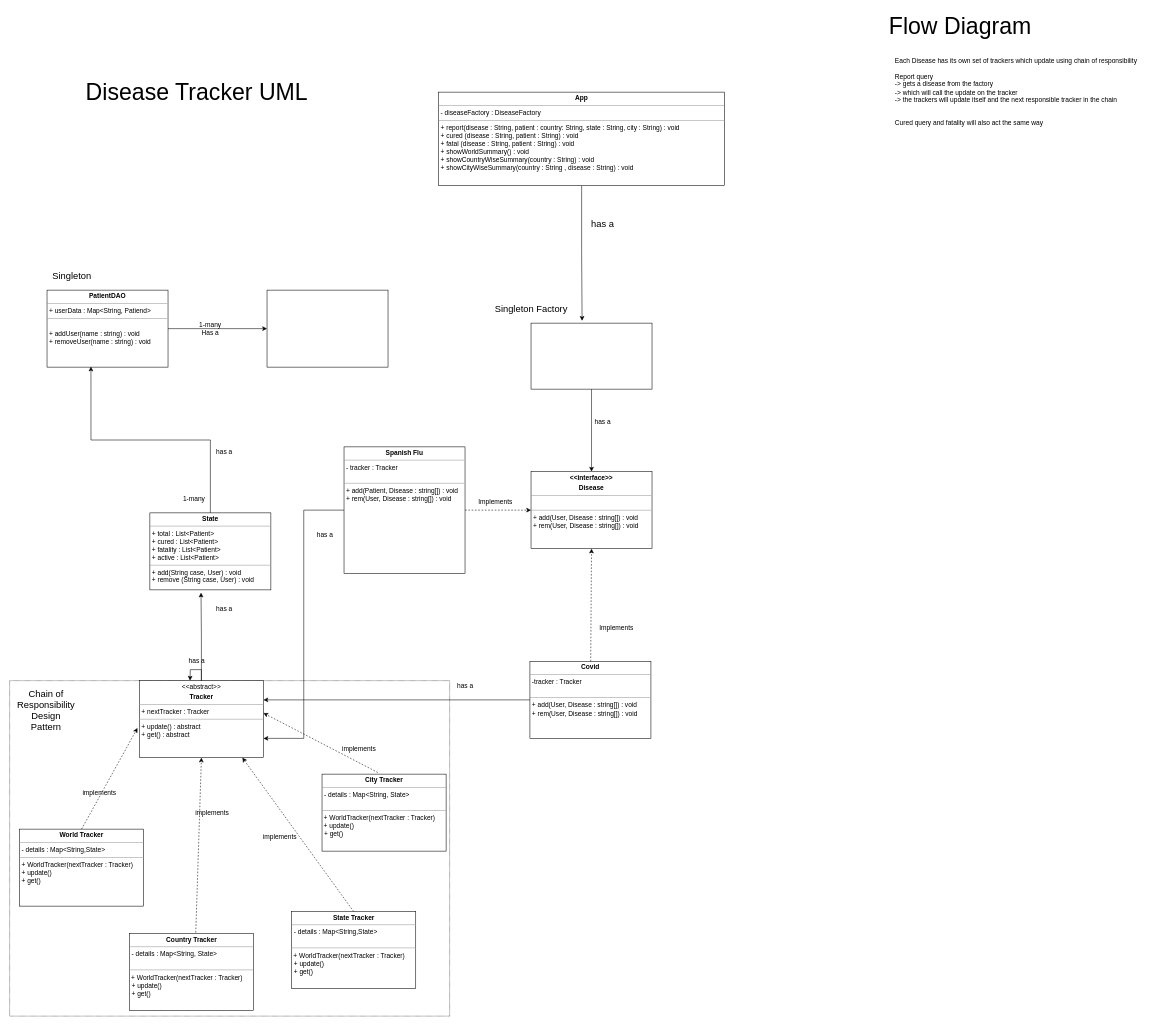
This 1157x1026 diagram has some shape labels left out. The shapes that lost their labels are listed below. From the top down, each one's centre as x and y in pixels, then its label:
point (327, 328): Patient + name : String
point (591, 356): DiseaseFactory + getDisease() : Disease
